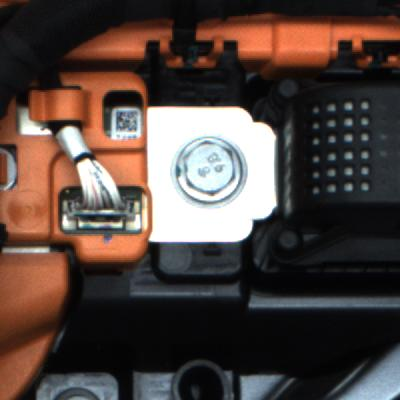nut_b: (177, 132, 249, 214)
